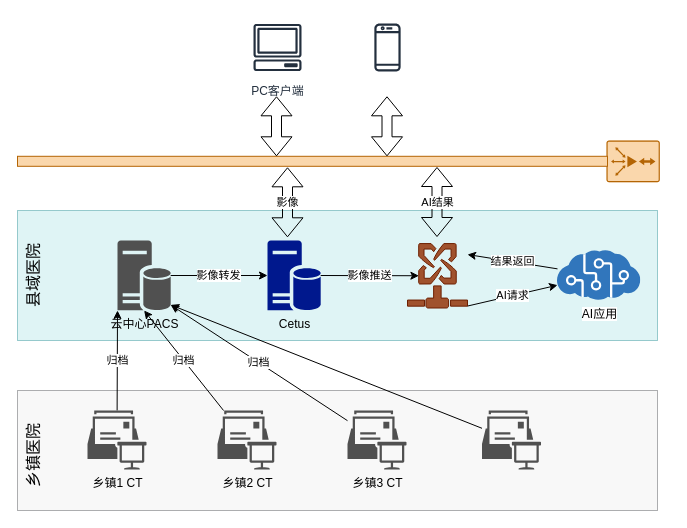
This 687x528 diagram has some shape labels left out. Here are the shapes that lost their labels. From the top down, the box of each, then its label:
(356, 16, 418, 78): 移动客户端
(606, 140, 660, 182): 网关与防火墙
(406, 242, 468, 308): 危急告警平台
(482, 410, 540, 469): 乡镇4 CT
